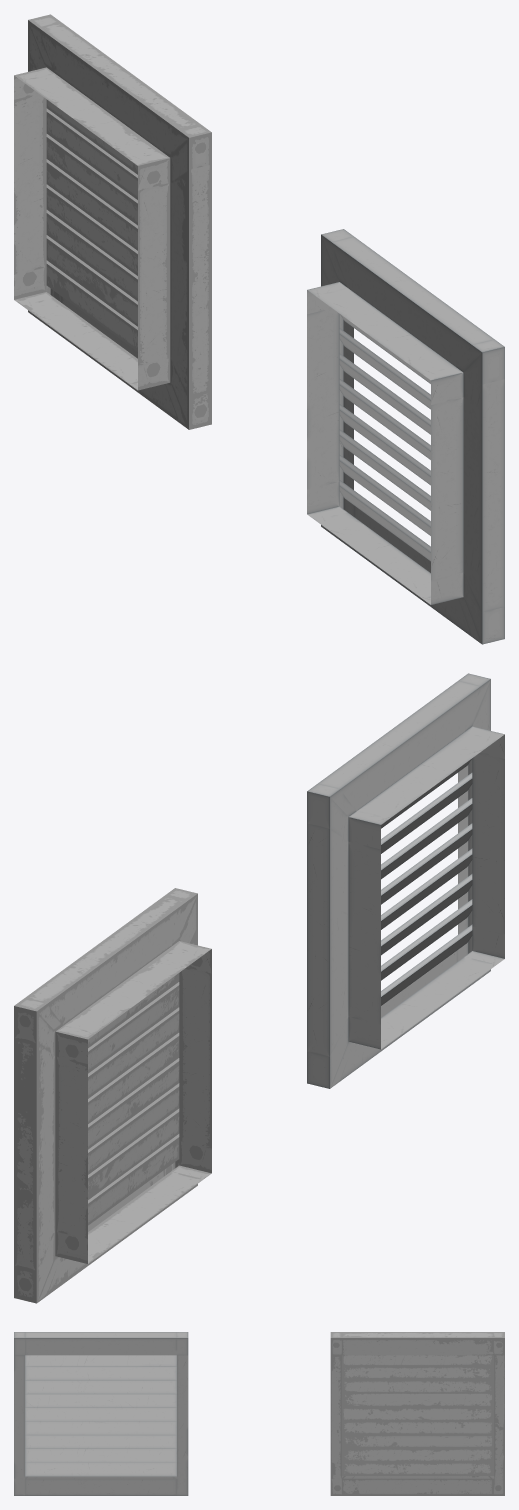
Rendered from vents.glb.
3 views of the same model, one above another, from view 1: azimuth 30°, elevation 25°; view 2: azimuth 150°, elevation 25°; view 3: azimuth 270°, elevation 25° (orthographic). The views are drawn at different scales.
Parts seen in each view (by area): view 1: Cube, Cube.011, Cube.014, Cube.017, Cube.020, Cube.015, Cube.016, Cube.018, Cube.019, Cube.008, Cube.005, Cube.010 (+5 smaller); view 2: Cube, Cube.011, Cube.015, Cube.016, Cube.019, Cube.014, Cube.017, Cube.018, Cube.020, Cube.005, Cube.006, Cube.009 (+5 smaller); view 3: Cube, Cube.011, Cube.004, Cube.007, Cube.010, Cube.015, Cube.018, Cube.019, Cube.003, Cube.005, Cube.006, Cube.008 (+8 smaller).
Part boxes in pixels (x1,y1,x2,y2): Cube: [307, 229, 504, 644]; Cube.011: [14, 14, 211, 429]; Cube.014: [46, 108, 137, 199]; Cube.017: [46, 184, 137, 275]; Cube.020: [46, 260, 137, 351]; Cube.015: [46, 134, 137, 225]; Cube.016: [46, 159, 137, 250]; Cube.018: [46, 210, 137, 301]; Cube.019: [46, 235, 137, 326]; Cube.008: [339, 429, 430, 510]; Cube.005: [339, 353, 430, 434]; Cube.010: [339, 480, 430, 561]; Cube: [307, 673, 504, 1088]; Cube.011: [14, 888, 211, 1303]; Cube.015: [88, 1007, 179, 1098]; Cube.016: [88, 1033, 179, 1123]; Cube.019: [88, 1108, 179, 1199]; Cube.014: [88, 982, 179, 1073]; Cube.017: [88, 1058, 179, 1149]; Cube.018: [88, 1083, 179, 1174]; Cube.020: [88, 1134, 179, 1225]; Cube.005: [381, 798, 472, 879]; Cube.006: [381, 823, 472, 904]; Cube.009: [381, 899, 472, 980]; Cube: [14, 1332, 188, 1495]; Cube.011: [330, 1332, 504, 1495]; Cube.004: [25, 1380, 176, 1394]; Cube.007: [25, 1421, 176, 1435]; Cube.010: [25, 1462, 176, 1476]; Cube.015: [342, 1393, 493, 1407]; Cube.018: [342, 1434, 493, 1448]; Cube.019: [342, 1448, 493, 1462]; Cube.003: [25, 1367, 176, 1380]; Cube.005: [25, 1394, 176, 1407]; Cube.006: [25, 1408, 176, 1421]; Cube.008: [25, 1435, 176, 1448].
Bounding box in the file's own units: 0.1246 × 0.6281 × 1.77.
2 materials, 2 textured.
